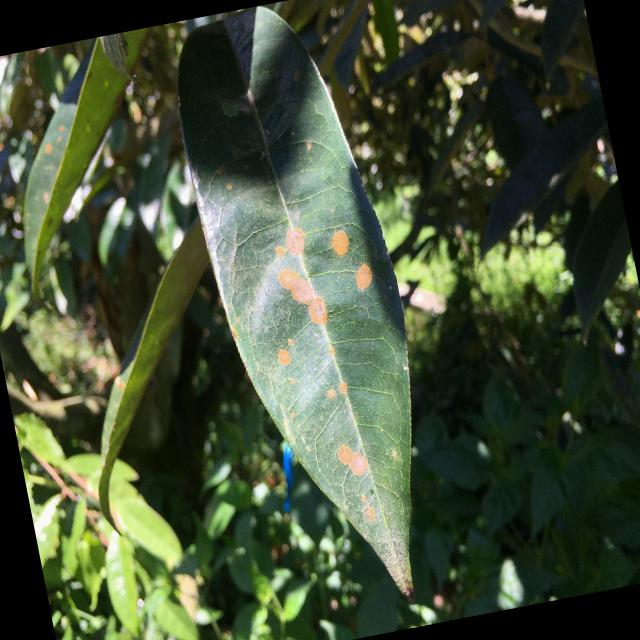Algal Leaf Spot: (150, 0, 465, 632)
